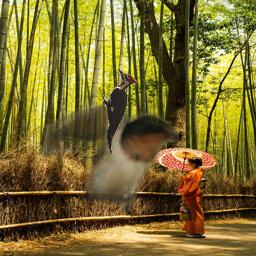Swallow: (38, 98, 179, 211)
Woodpecker: (98, 68, 137, 154)
